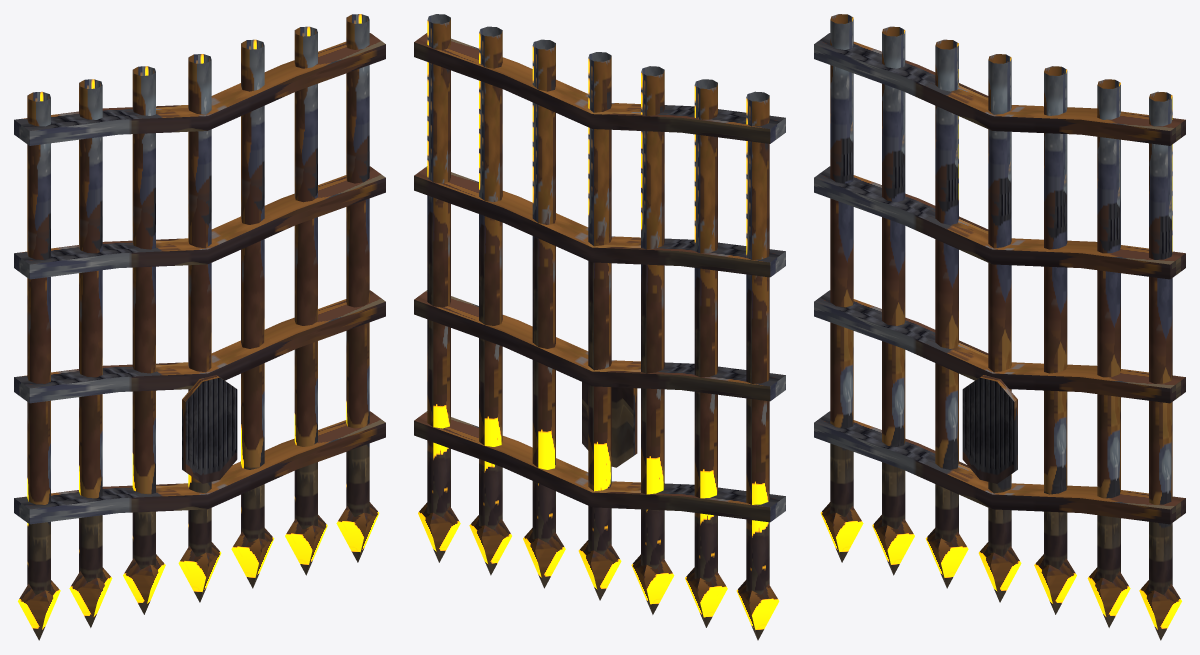
File: SM_TreasureGate.fbx
3 renders of one model, left to right at view 1: azimuth 30°, elevation 25°; view 2: azimuth 150°, elevation 25°; view 3: azimuth 330°, elevation 25°, orthographic.
Parts seen in each view (by area): view 1: SM_TreasureGate; view 2: SM_TreasureGate; view 3: SM_TreasureGate.
Part boxes in pixels (bbox=[...]): SM_TreasureGate: bbox=[14, 14, 385, 640]; SM_TreasureGate: bbox=[414, 14, 785, 640]; SM_TreasureGate: bbox=[814, 14, 1185, 640].
Bounding box in the file's own units: 878 × 1263 × 92.84.
